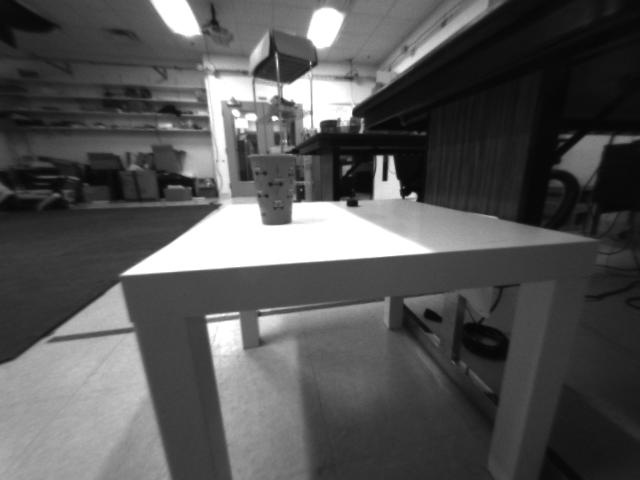coffee_cup: (246, 153, 301, 225)
